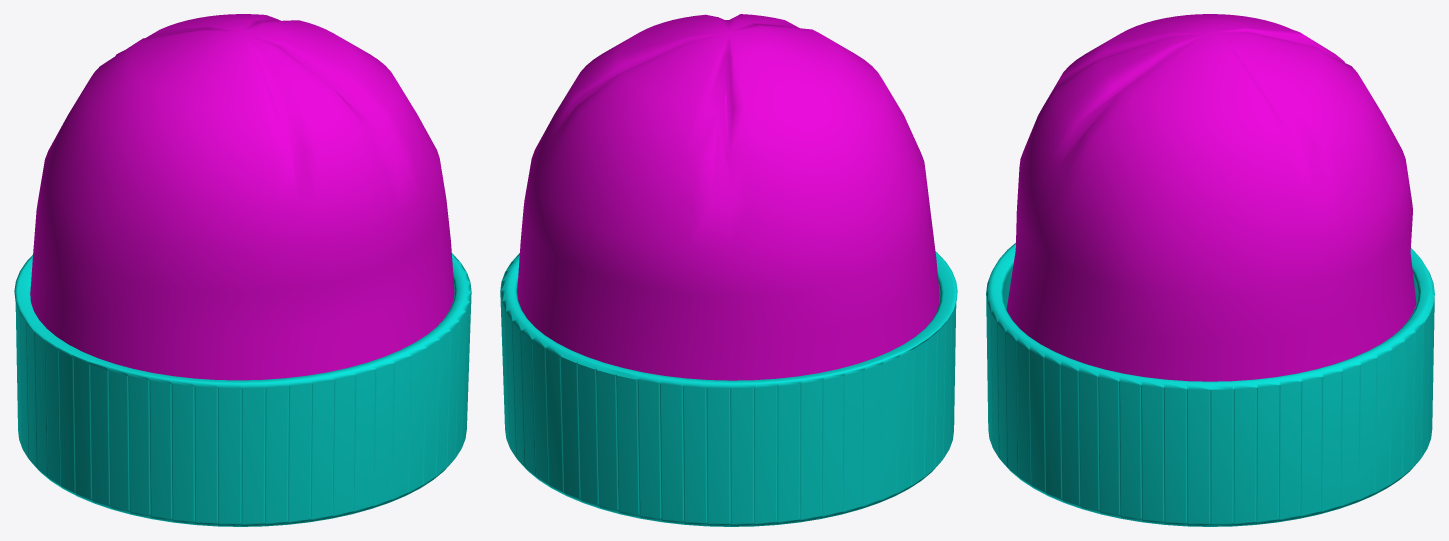
The model's file is beanie.fbx.
3 views of the same model, side by side, from view 1: azimuth 30°, elevation 25°; view 2: azimuth 150°, elevation 25°; view 3: azimuth 270°, elevation 25° (orthographic).
Visible parts, largest first — view 1: pCylinder1; view 2: pCylinder1; view 3: pCylinder1.
Part boxes in pixels (x1,y1,x2,y2): pCylinder1: (14,14,471,526); pCylinder1: (500,14,957,526); pCylinder1: (986,14,1434,526).
Bounding box in the file's own units: 575 × 555 × 563.
